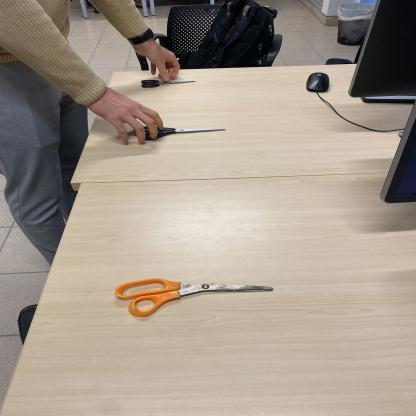scissors: (114, 277, 275, 318), (133, 126, 226, 140), (140, 80, 196, 88)
